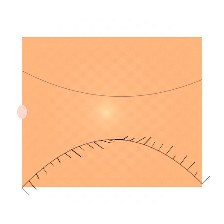pinguecula_lesion: (145, 108, 174, 131)
